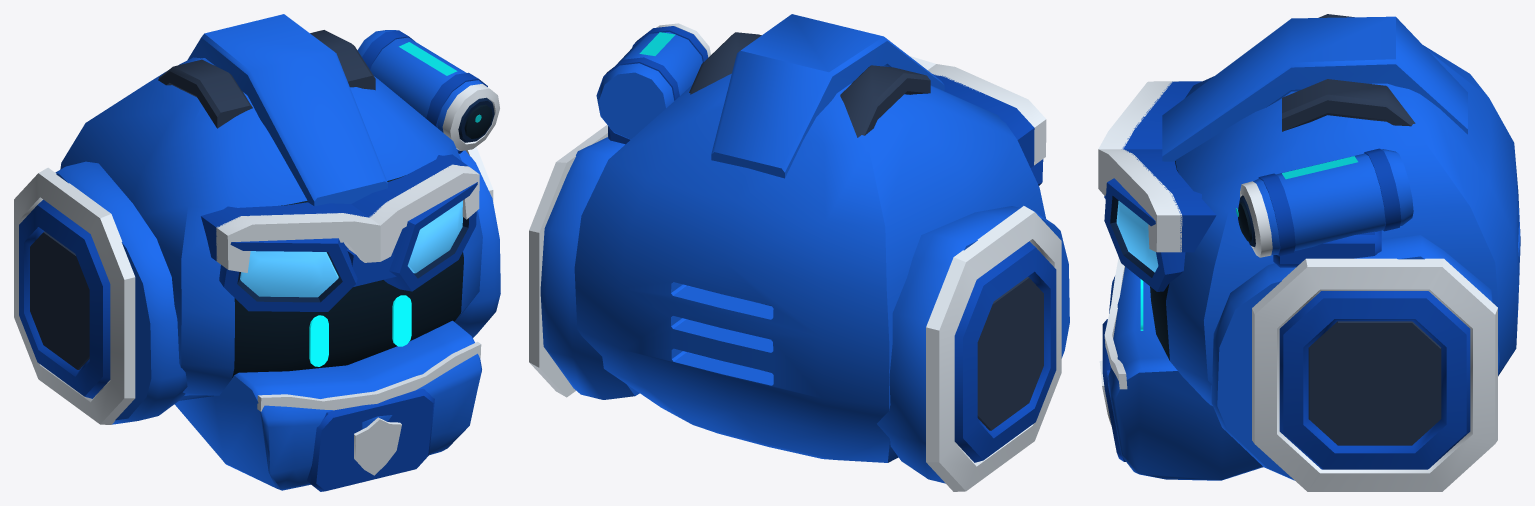
Rendered from copilot_security_v01.glb.
3 renders of one model, left to right at view 1: azimuth 30°, elevation 25°; view 2: azimuth 150°, elevation 25°; view 3: azimuth 270°, elevation 25°, orthographic. The views are drawn at different scales.
Parts seen in each view (by area): view 1: security_model; view 2: security_model; view 3: security_model.
Part boxes in pixels (box(x1,y1,x2,y2)): security_model: box(14, 14, 500, 491); security_model: box(529, 14, 1069, 491); security_model: box(1098, 14, 1520, 491).
Size of the model in its own units: 2.61 by 2.34 by 2.23.
Materials: 2 (2 with a texture image).
